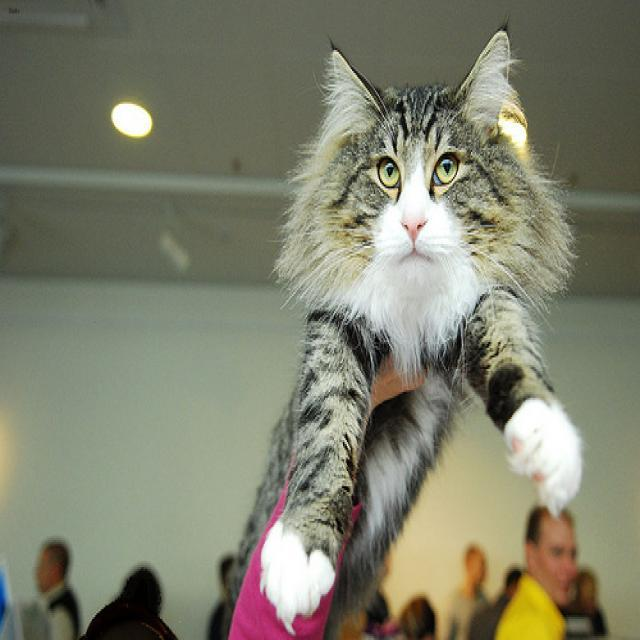Maine_Coon: (329, 21, 508, 292)
